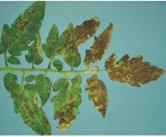Tomato Septoria leaf spot: (4, 74, 54, 135), (3, 3, 49, 63), (50, 75, 82, 131), (44, 24, 62, 68), (36, 73, 52, 108)
